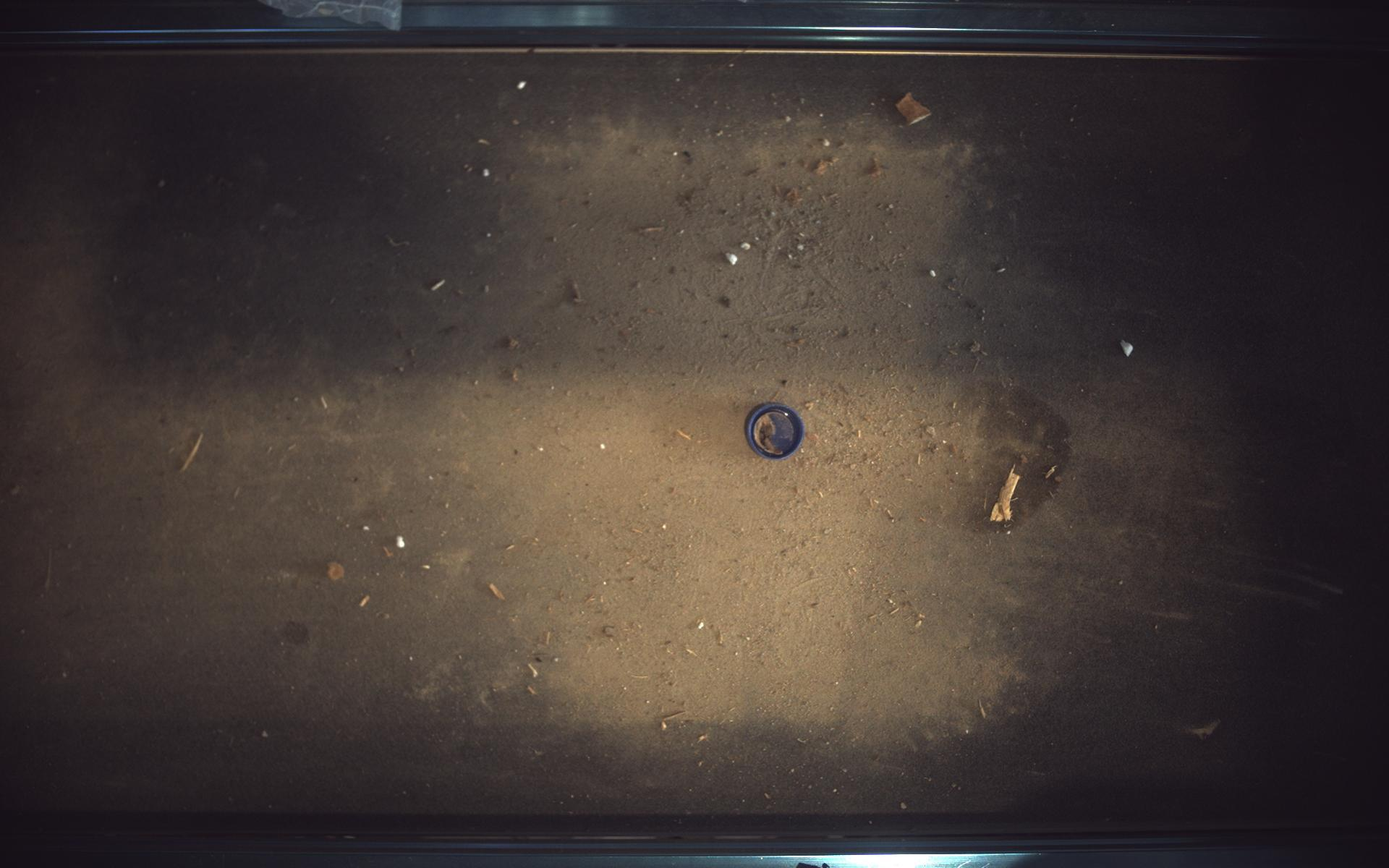general_w: (746, 403, 807, 461)
